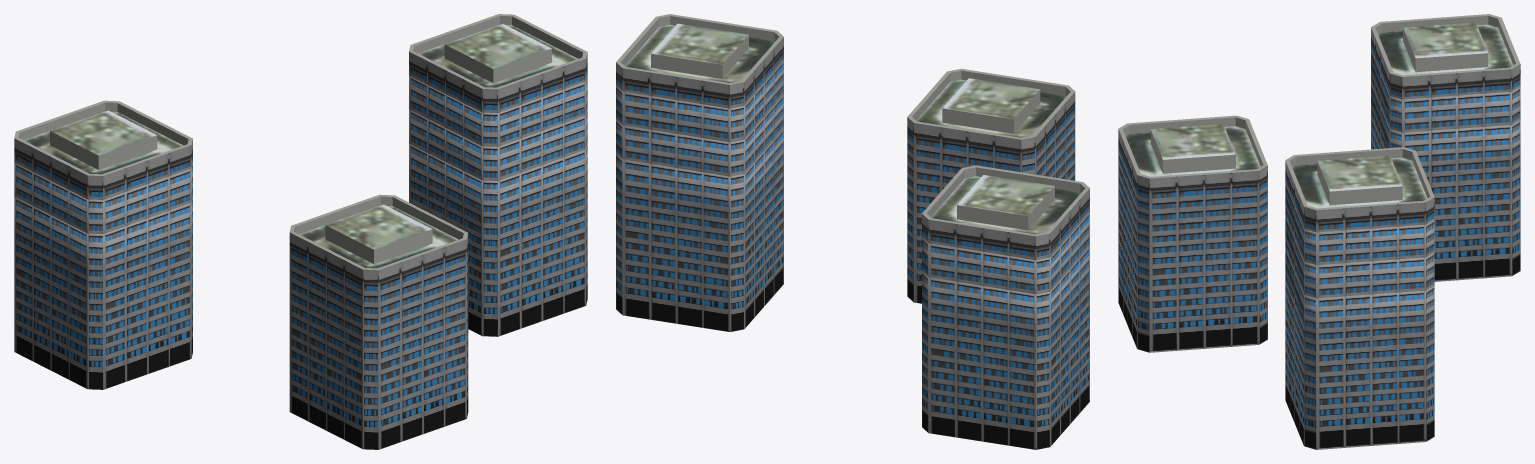
Rendered from ZHG.glb.
The picture shows the model from 3 angles, left to right: view 1: azimuth 30°, elevation 25°; view 2: azimuth 150°, elevation 25°; view 3: azimuth 270°, elevation 25°; orthographic projection. The views are drawn at different scales.
Visible parts, largest first — view 1: Existing, Kreuzbergring Base.001, Kreuzbergring Base, Kreuzbergring Top.001, Kreuzbergring Top, Kreuzbergring Middle 1, Kreuzbergring Middle, Kreuzbergring Middle 2, Kreuzbergring Middle.001, Kreuzbergring Middle 3; view 2: Kreuzbergring Base.001, Kreuzbergring Base, Existing, Kreuzbergring Top.001, Kreuzbergring Top, Kreuzbergring Middle, Kreuzbergring Middle 1, Kreuzbergring Middle 2, Kreuzbergring Middle.001, Kreuzbergring Middle 3; view 3: Existing, Kreuzbergring Base, Kreuzbergring Top.001, Kreuzbergring Top, Kreuzbergring Base.001, Kreuzbergring Middle 1, Kreuzbergring Middle.001, Kreuzbergring Middle 2, Kreuzbergring Middle 3, Kreuzbergring Middle.
Boxes of the visible parts, bbox=[...] form: Existing: bbox=[289, 194, 468, 449]; Kreuzbergring Base.001: bbox=[14, 231, 192, 389]; Kreuzbergring Base: bbox=[409, 178, 587, 336]; Kreuzbergring Top.001: bbox=[14, 100, 192, 199]; Kreuzbergring Top: bbox=[409, 14, 587, 112]; Kreuzbergring Middle 1: bbox=[409, 143, 587, 215]; Kreuzbergring Middle: bbox=[14, 196, 192, 268]; Kreuzbergring Middle 2: bbox=[409, 109, 587, 180]; Kreuzbergring Middle.001: bbox=[14, 162, 192, 233]; Kreuzbergring Middle 3: bbox=[409, 75, 587, 146]; Kreuzbergring Base.001: bbox=[922, 281, 1089, 449]; Kreuzbergring Base: bbox=[616, 163, 783, 331]; Existing: bbox=[907, 68, 1075, 303]; Kreuzbergring Top.001: bbox=[922, 165, 1089, 260]; Kreuzbergring Top: bbox=[616, 14, 783, 108]; Kreuzbergring Middle: bbox=[922, 246, 1089, 328]; Kreuzbergring Middle 1: bbox=[616, 129, 783, 210]; Kreuzbergring Middle 2: bbox=[616, 95, 783, 176]; Kreuzbergring Middle.001: bbox=[922, 212, 1089, 294]; Kreuzbergring Middle 3: bbox=[616, 61, 783, 142]; Existing: bbox=[1118, 115, 1267, 352]; Kreuzbergring Base: bbox=[1285, 283, 1434, 449]; Kreuzbergring Top.001: bbox=[1371, 14, 1520, 99]; Kreuzbergring Top: bbox=[1285, 147, 1434, 232]; Kreuzbergring Base.001: bbox=[1371, 117, 1520, 281]; Kreuzbergring Middle 1: bbox=[1285, 250, 1434, 331]; Kreuzbergring Middle.001: bbox=[1371, 51, 1520, 132]; Kreuzbergring Middle 2: bbox=[1285, 217, 1434, 298]; Kreuzbergring Middle 3: bbox=[1285, 184, 1434, 264]; Kreuzbergring Middle: bbox=[1371, 84, 1520, 164].
Size of the model in its own units: 146 by 72.99 by 109.
7 materials, 7 textured.
